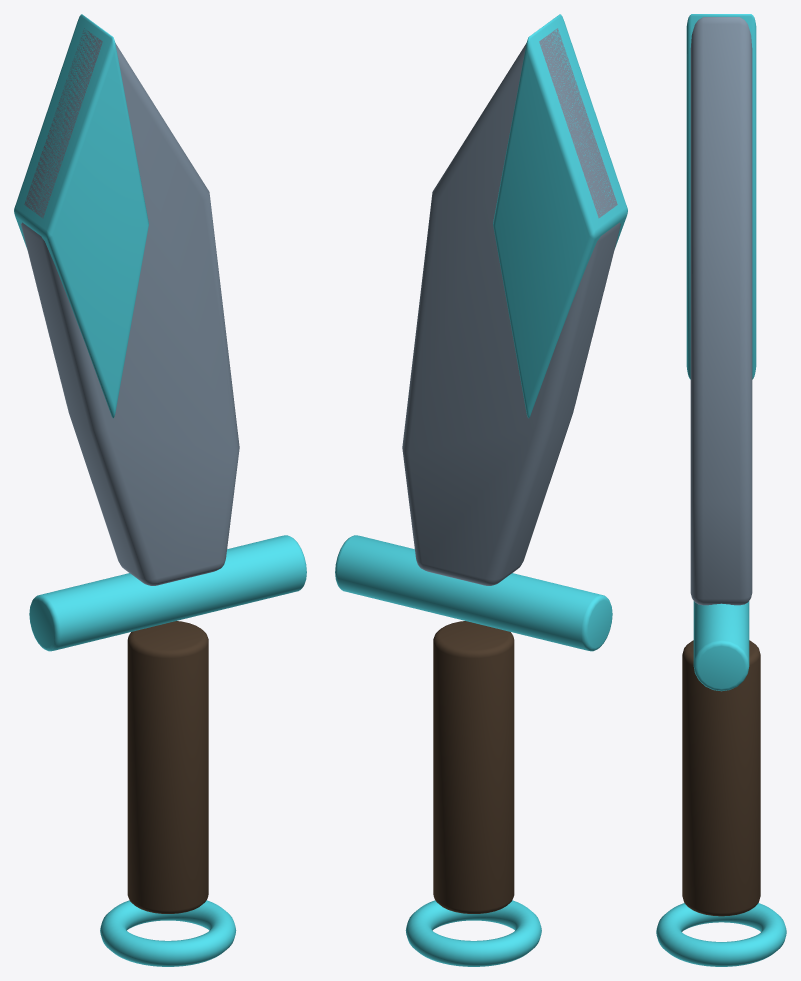
Rendered from dagger_v2.glb.
The picture shows the model from 3 angles, left to right: view 1: azimuth 30°, elevation 25°; view 2: azimuth 150°, elevation 25°; view 3: azimuth 270°, elevation 25°; orthographic projection. The views are drawn at different scales.
Parts seen in each view (by area): view 1: KUKRI_BLADE_PRIMARY, KUKRI_EDGE_ACCENT, GRIP_SECONDARY, KUKRI_GUARD_ACCENT, POMMEL_ACCENT; view 2: KUKRI_BLADE_PRIMARY, KUKRI_EDGE_ACCENT, GRIP_SECONDARY, KUKRI_GUARD_ACCENT, POMMEL_ACCENT; view 3: KUKRI_BLADE_PRIMARY, GRIP_SECONDARY, POMMEL_ACCENT, KUKRI_GUARD_ACCENT, KUKRI_EDGE_ACCENT.
Boxes of the visible parts, bbox=[...] form: KUKRI_BLADE_PRIMARY: bbox=[21, 28, 239, 585]; KUKRI_EDGE_ACCENT: bbox=[14, 14, 148, 418]; GRIP_SECONDARY: bbox=[127, 621, 208, 913]; KUKRI_GUARD_ACCENT: bbox=[29, 535, 306, 651]; POMMEL_ACCENT: bbox=[100, 900, 236, 966]; KUKRI_BLADE_PRIMARY: bbox=[402, 28, 620, 585]; KUKRI_EDGE_ACCENT: bbox=[493, 14, 627, 418]; GRIP_SECONDARY: bbox=[433, 621, 514, 913]; KUKRI_GUARD_ACCENT: bbox=[335, 535, 612, 651]; POMMEL_ACCENT: bbox=[405, 900, 541, 966]; KUKRI_BLADE_PRIMARY: bbox=[690, 17, 752, 605]; GRIP_SECONDARY: bbox=[682, 640, 760, 916]; POMMEL_ACCENT: bbox=[656, 903, 786, 966]; KUKRI_GUARD_ACCENT: bbox=[693, 601, 749, 691]; KUKRI_EDGE_ACCENT: bbox=[686, 14, 756, 379].
Bounding box in the file's own units: 1.05 × 3.54 × 0.468.
